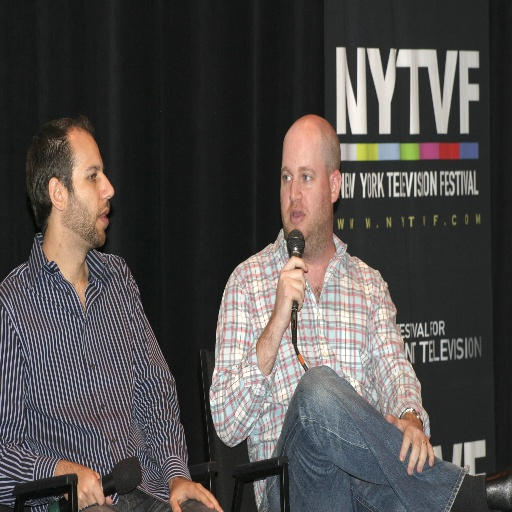hand: (385, 412, 436, 477), (279, 256, 313, 331), (62, 464, 113, 510), (165, 477, 224, 511)
